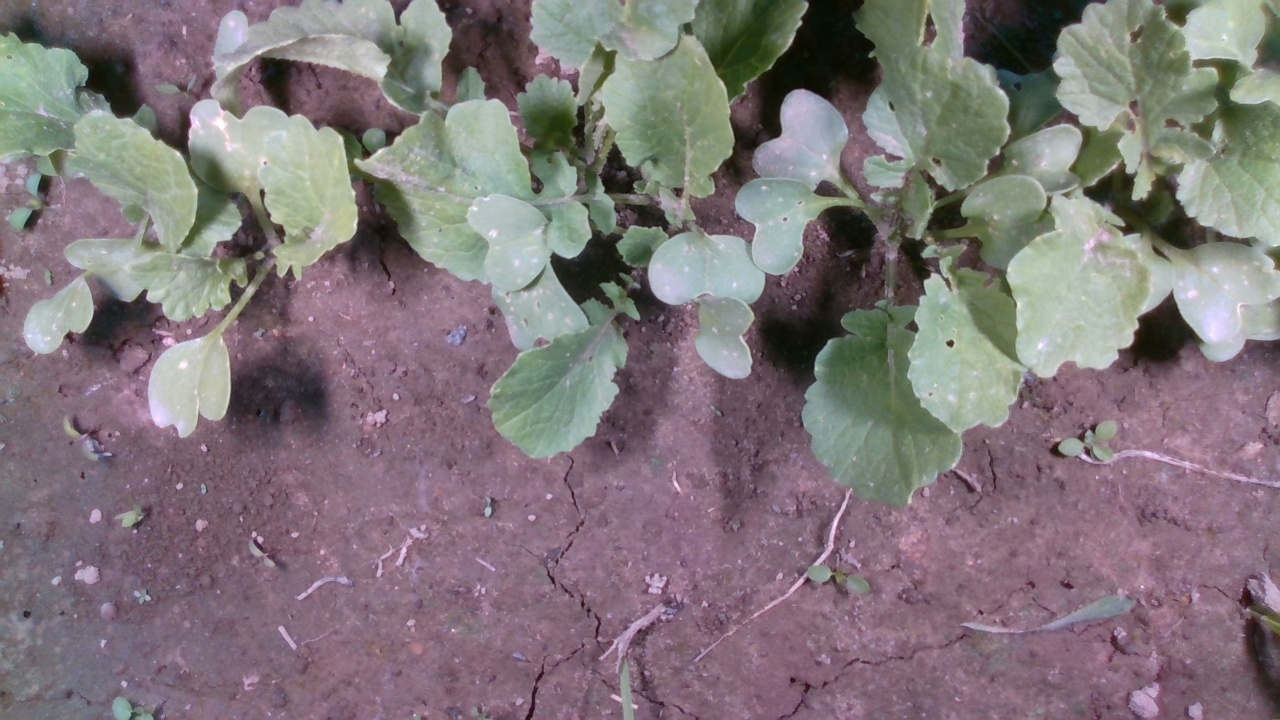weed: (1054, 417, 1118, 464), (807, 564, 873, 596)
